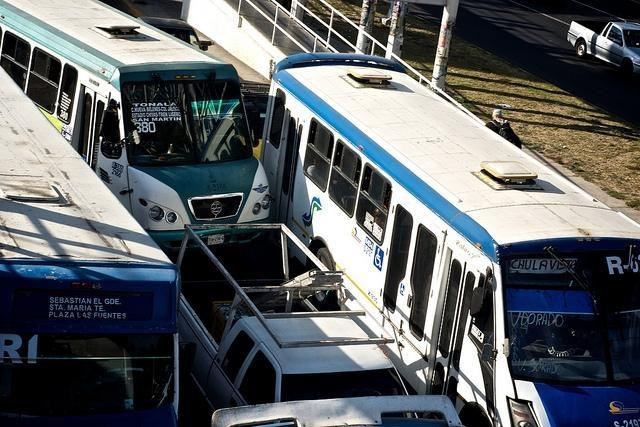bus: (260, 50, 640, 421), (1, 0, 275, 251), (0, 65, 182, 427)
truck: (175, 218, 412, 411), (566, 19, 640, 74)
